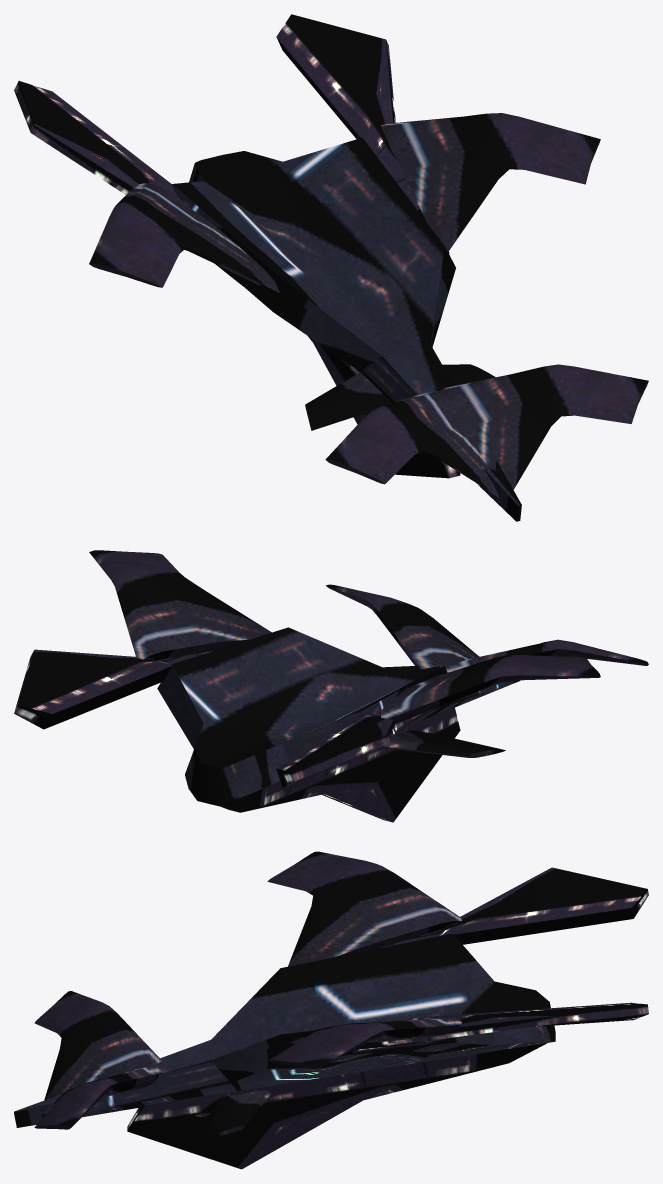
File: Radving.fbx
3 renders of one model, top to bottom at view 1: azimuth 30°, elevation 25°; view 2: azimuth 150°, elevation 25°; view 3: azimuth 270°, elevation 25°, orthographic. The views are drawn at different scales.
Visible parts, largest first — view 1: 00_Core, 03_Tail, 02_WingRight, 01_WingLeft; view 2: 00_Core, 02_WingRight, 03_Tail, 01_WingLeft; view 3: 00_Core, 01_WingLeft, 03_Tail, 02_WingRight.
Part boxes in pixels (box(x1,y1,x2,y2)): 00_Core: box(14, 14, 521, 521); 03_Tail: box(325, 364, 648, 498); 02_WingRight: box(381, 113, 600, 251); 01_WingLeft: box(89, 183, 280, 293); 00_Core: box(14, 627, 520, 822); 02_WingRight: box(89, 550, 271, 659); 03_Tail: box(325, 584, 648, 672); 01_WingLeft: box(381, 655, 600, 723); 00_Core: box(14, 867, 648, 1169); 01_WingLeft: box(267, 851, 461, 966); 03_Tail: box(34, 991, 162, 1129); 02_WingRight: box(267, 1017, 461, 1069).
Size of the model in its own units: 10057 by 4877 by 12440.
1 material, 1 textured.
